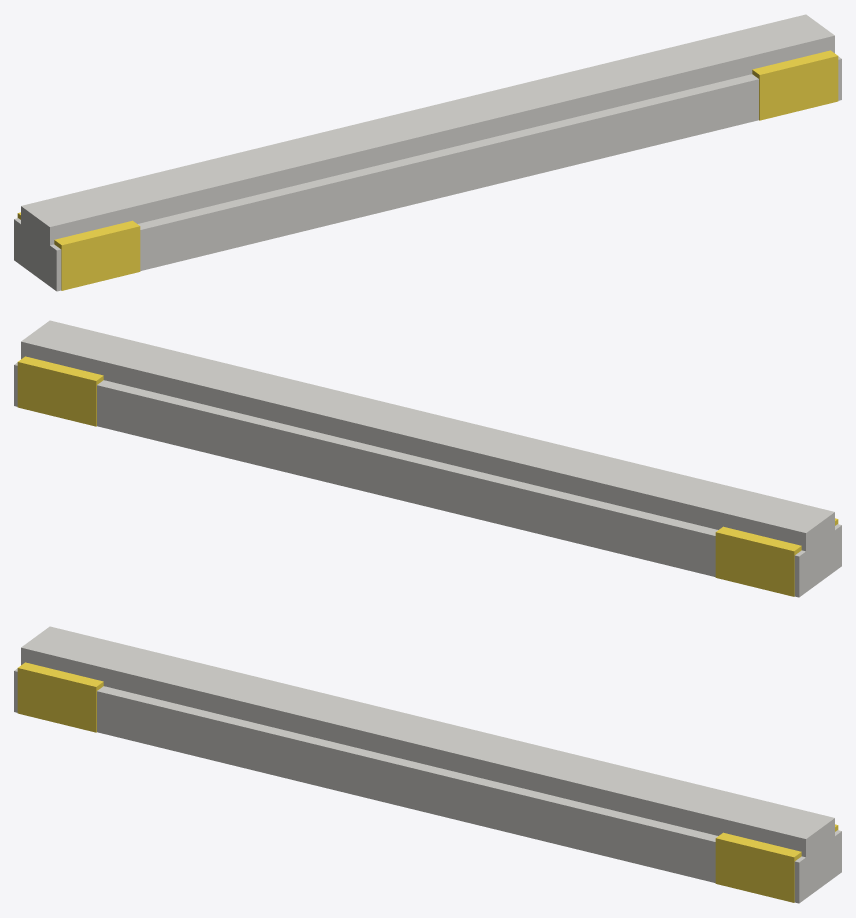
The model's file is wheel_stop.glb.
3 renders of one model, top to bottom at view 1: azimuth 30°, elevation 25°; view 2: azimuth 150°, elevation 25°; view 3: azimuth 330°, elevation 25°, orthographic.
Parts seen in each view (by area): view 1: wheel_stop; view 2: wheel_stop; view 3: wheel_stop.
Part boxes in pixels (x1,y1,x2,y2): wheel_stop: [14, 14, 841, 291]; wheel_stop: [14, 320, 841, 597]; wheel_stop: [14, 626, 841, 903].
Size of the model in its own units: 1.8 by 0.13 by 0.175.
